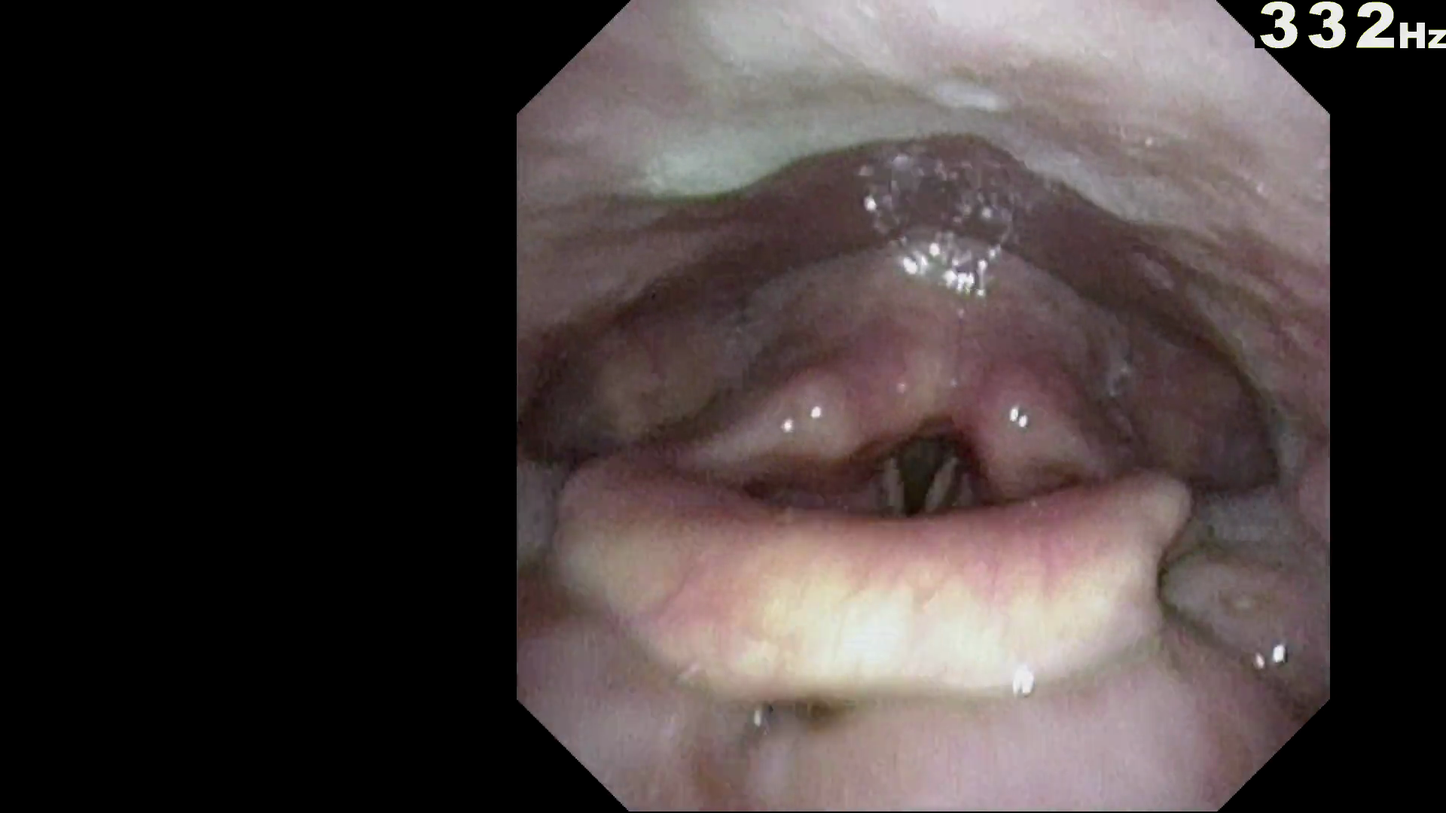epiglottis: (587, 455, 1199, 615)
